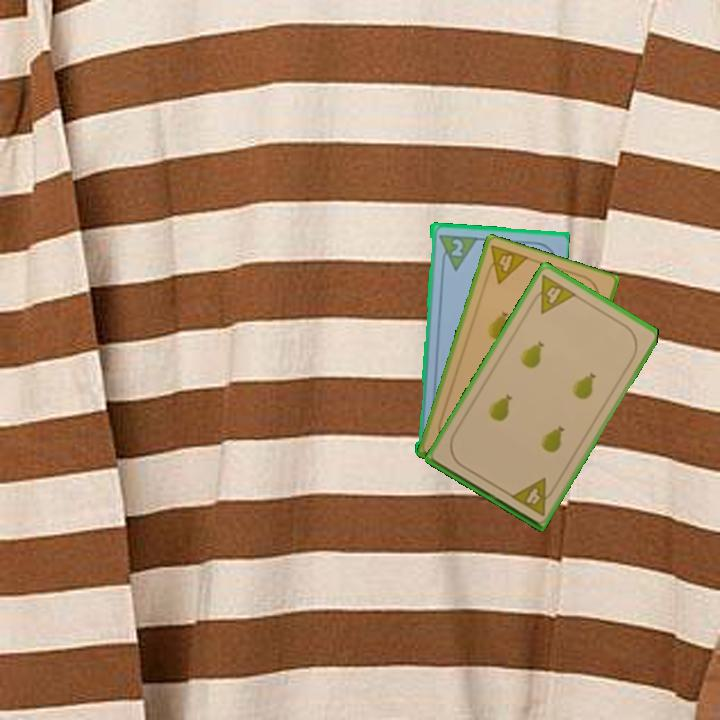2p: (447, 235, 465, 259)
4p: (526, 271, 579, 316), (507, 474, 559, 518), (481, 242, 531, 287)
